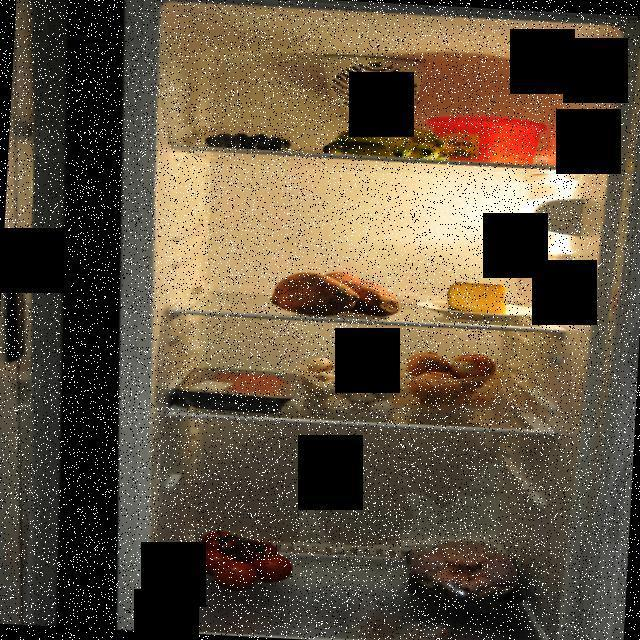banana: (320, 117, 453, 164)
beef: (197, 368, 289, 398)
blueberries: (199, 120, 300, 156)
butter: (428, 113, 558, 168)
cheese: (445, 278, 512, 320)
chicken: (402, 535, 530, 614)
mushrooms: (292, 355, 414, 422)
onion: (402, 346, 512, 405)
sweet_potato: (268, 263, 409, 320)
tomato: (196, 524, 297, 596)
